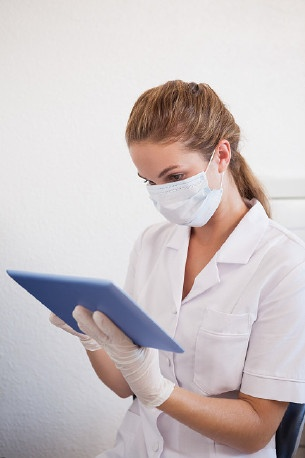Mask: (132, 160, 203, 230)
